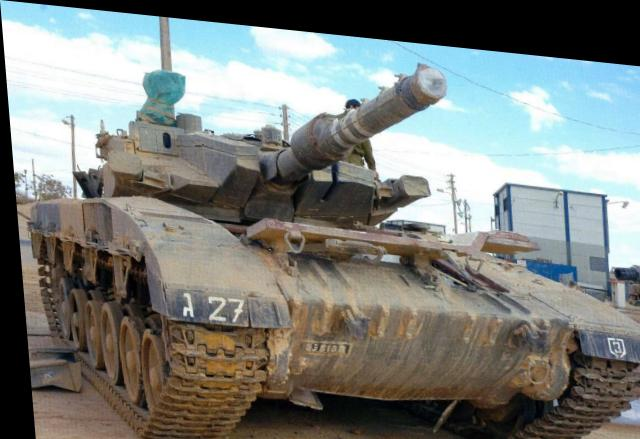tank: (18, 119, 628, 438)
